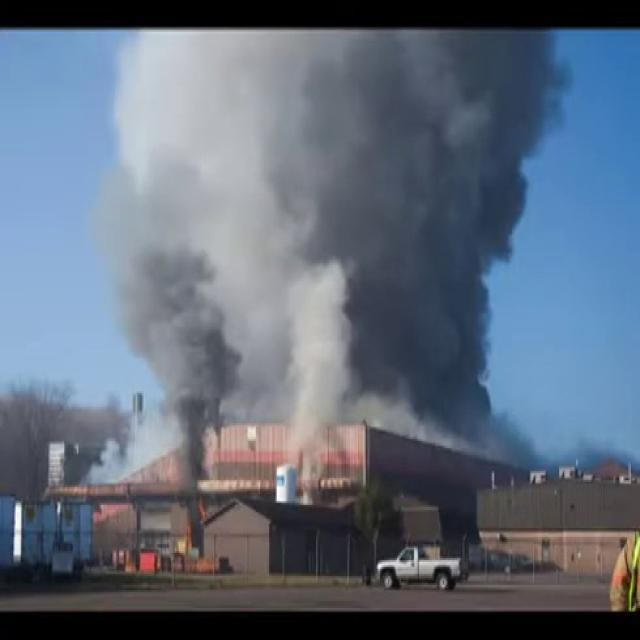Smoke: (90, 28, 589, 482)
